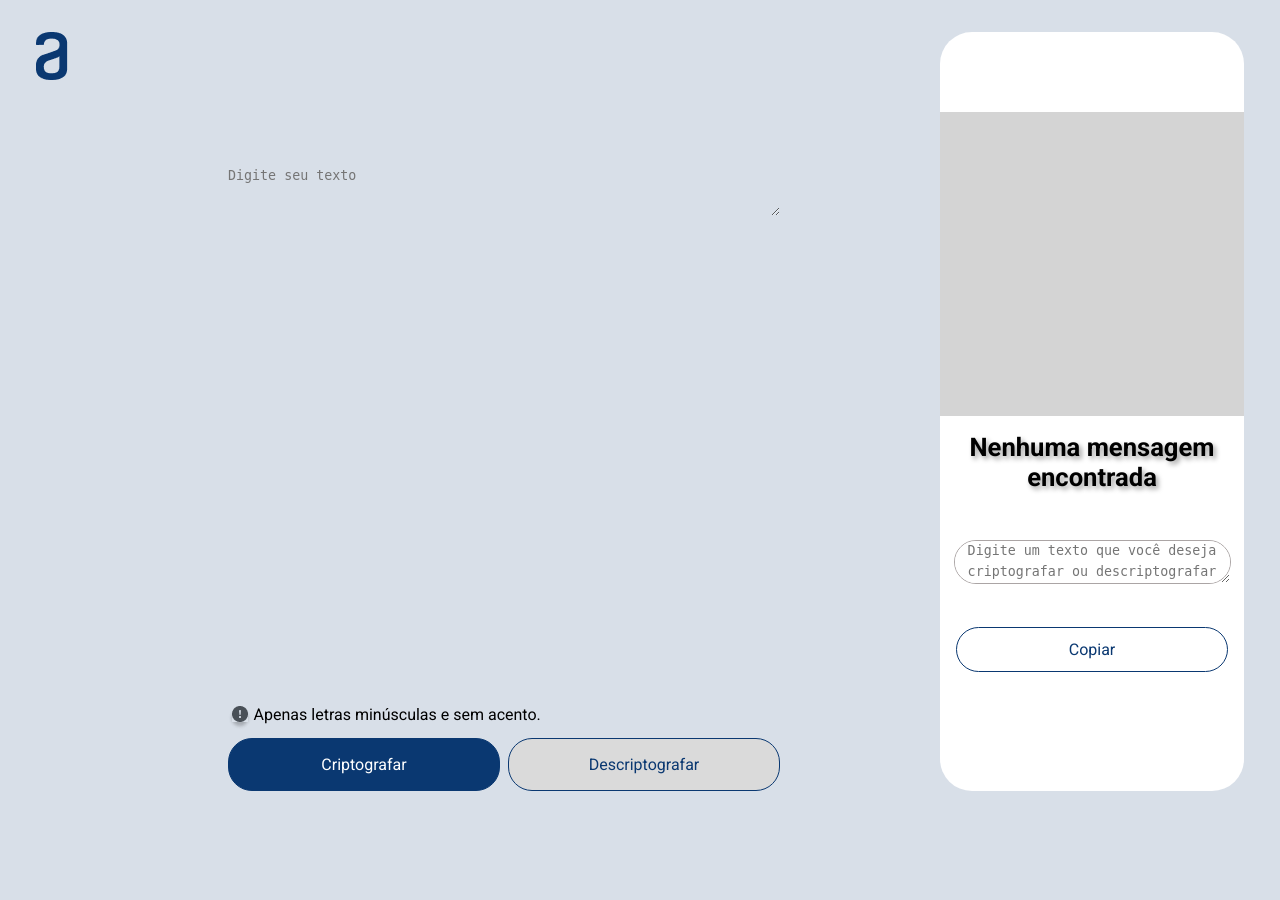
Test case: App Component › Deve mostrar mensagem de erro quando o campo de entrada estiver vazio
The image size is (1280, 900).
Click the button "Criptografar" at [364, 765], box [228,738,500,791]
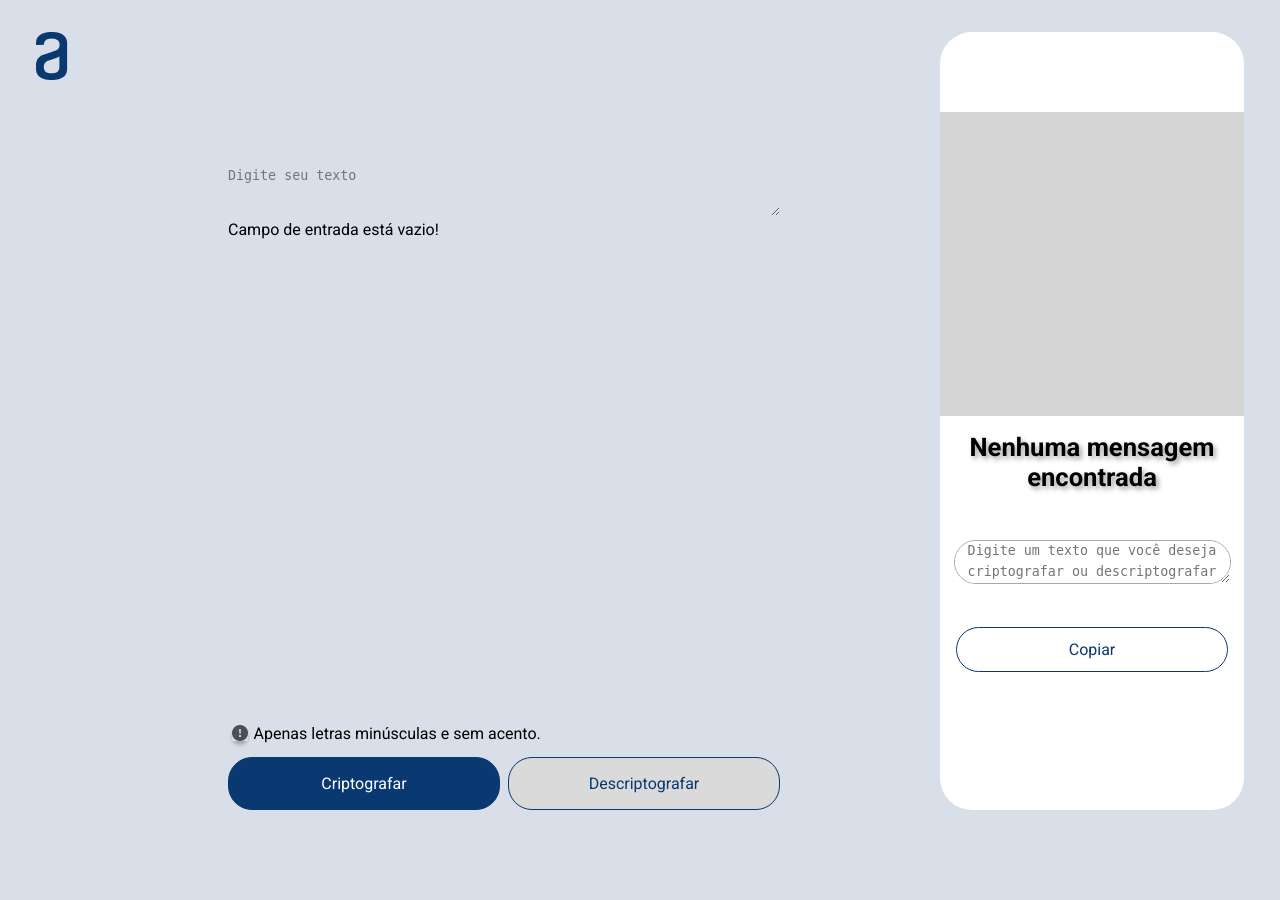
Expected: the text "Campo de entrada está vazio!" is shown, [228,220,439,239]
